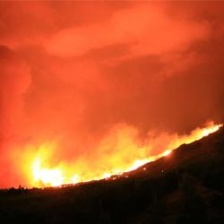fire: (18, 112, 222, 200)
